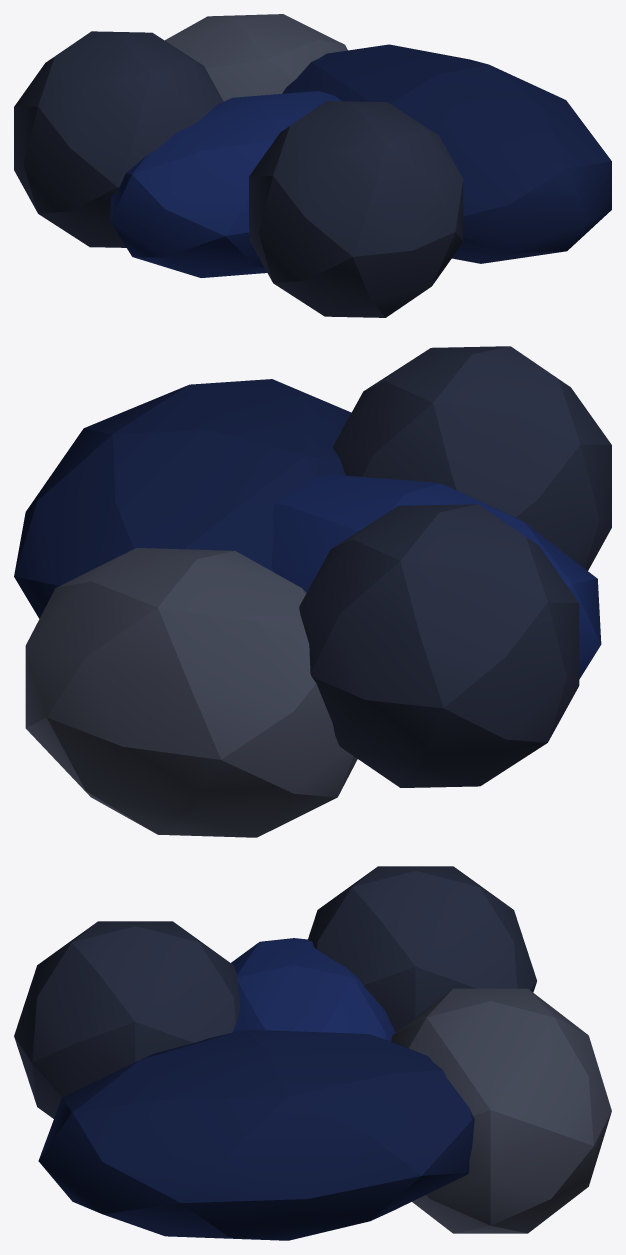
File: Cloud.fbx
3 renders of one model, top to bottom at view 1: azimuth 30°, elevation 25°; view 2: azimuth 150°, elevation 25°; view 3: azimuth 270°, elevation 25°, orthographic. The views are drawn at different scales.
Visible parts, largest first — view 1: icosphere (×5); view 2: icosphere (×5); view 3: icosphere (×5).
Boxes of the visible parts, box(x1,y1,x2,y2) form: icosphere (×5): box(14, 14, 611, 317); icosphere (×5): box(14, 346, 611, 837); icosphere (×5): box(14, 866, 611, 1240).
Size of the model in its own units: 31.43 by 16 by 32.
